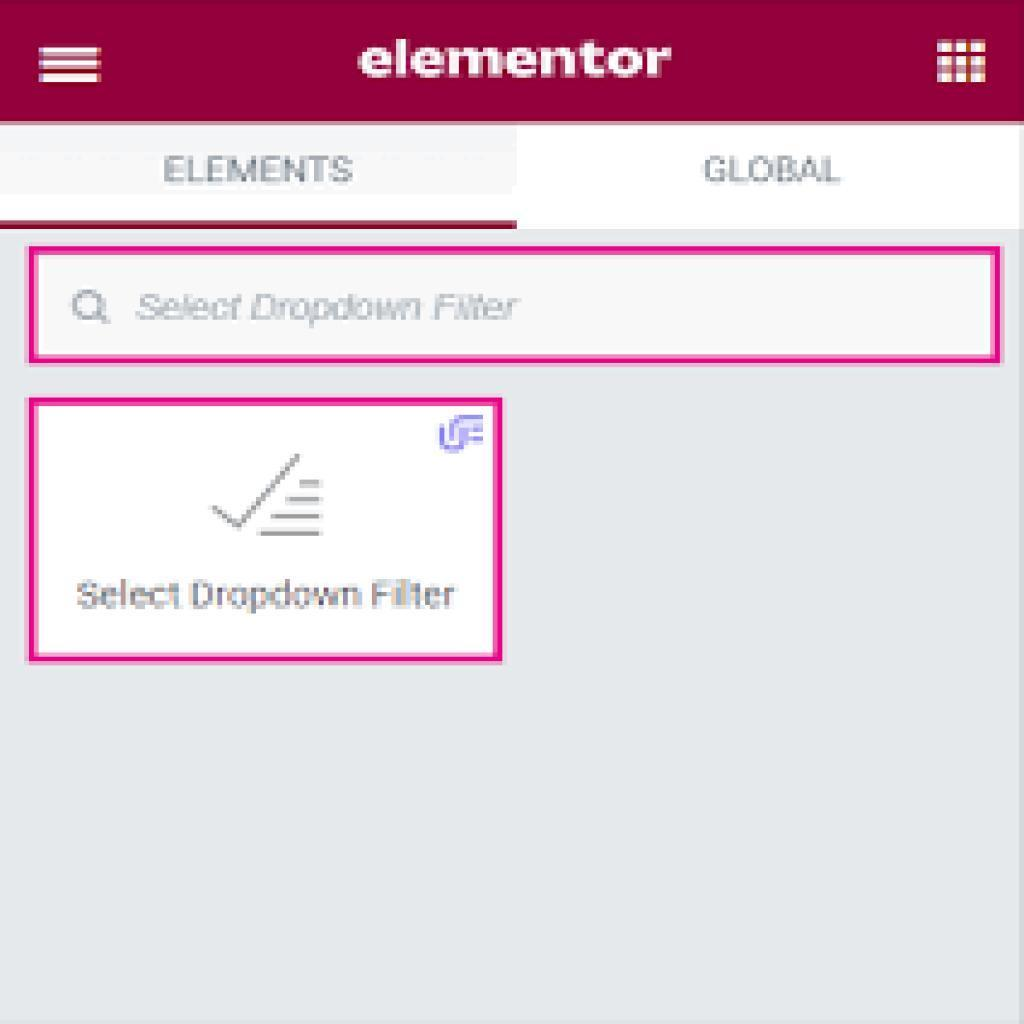icon: (58, 275, 126, 334)
input: (31, 250, 998, 357)
